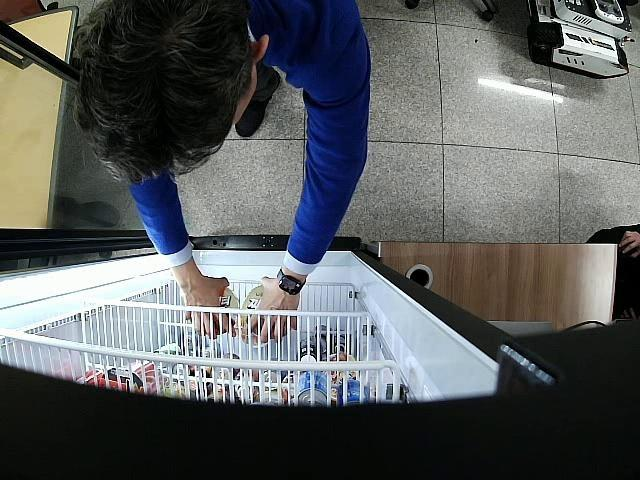03_chapagetti_L: (241, 284, 287, 336), (204, 286, 239, 336)
